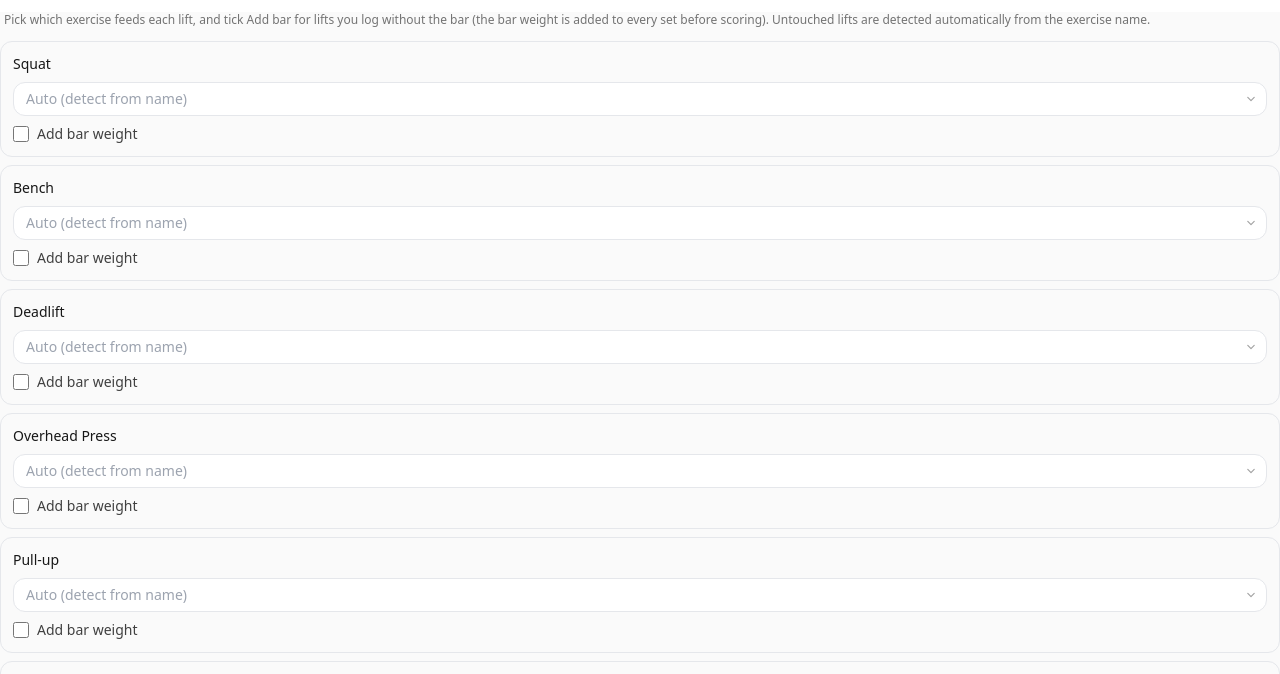
Scenario: LiftSourcesEditor › checking Add bar reveals the kg input defaulted to 20
The image size is (1280, 674).
Expected: the field showing "20" is not shown
Click the checkbox labelled "Add bar weight" below "Squat". click: (21, 134)
box: [13, 126, 29, 142]
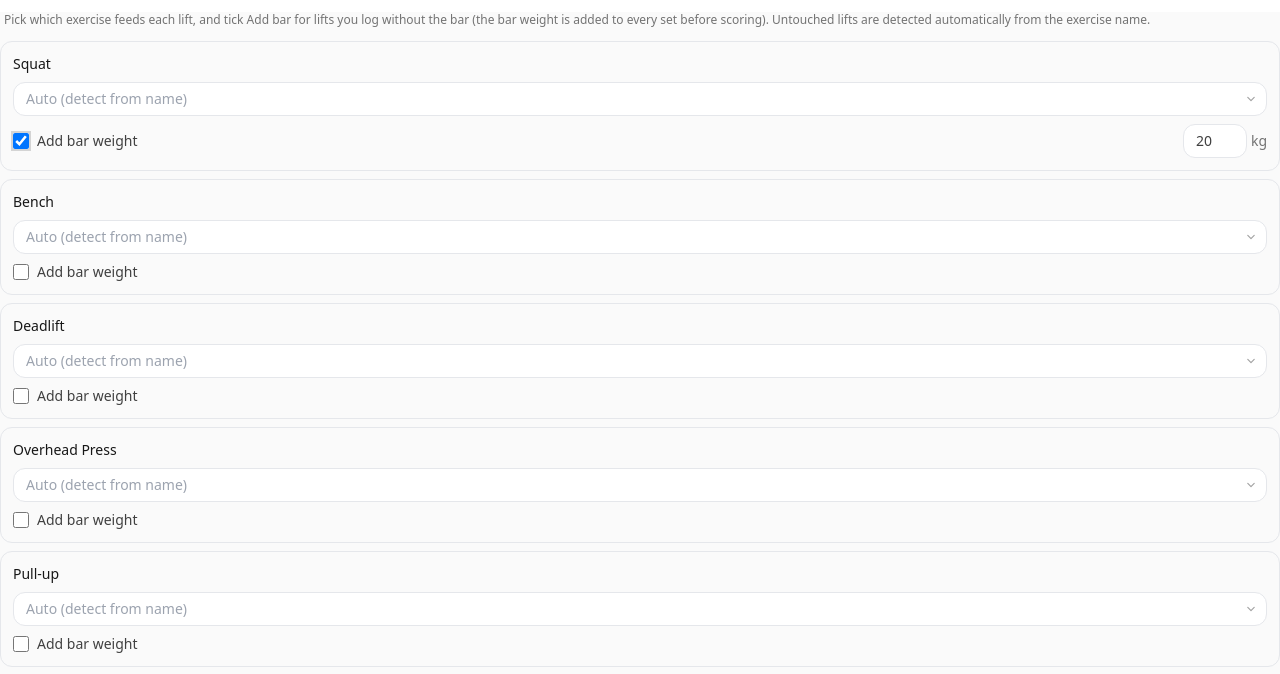
Expected: the number field showing "20" is shown, [1183, 124, 1247, 158]
